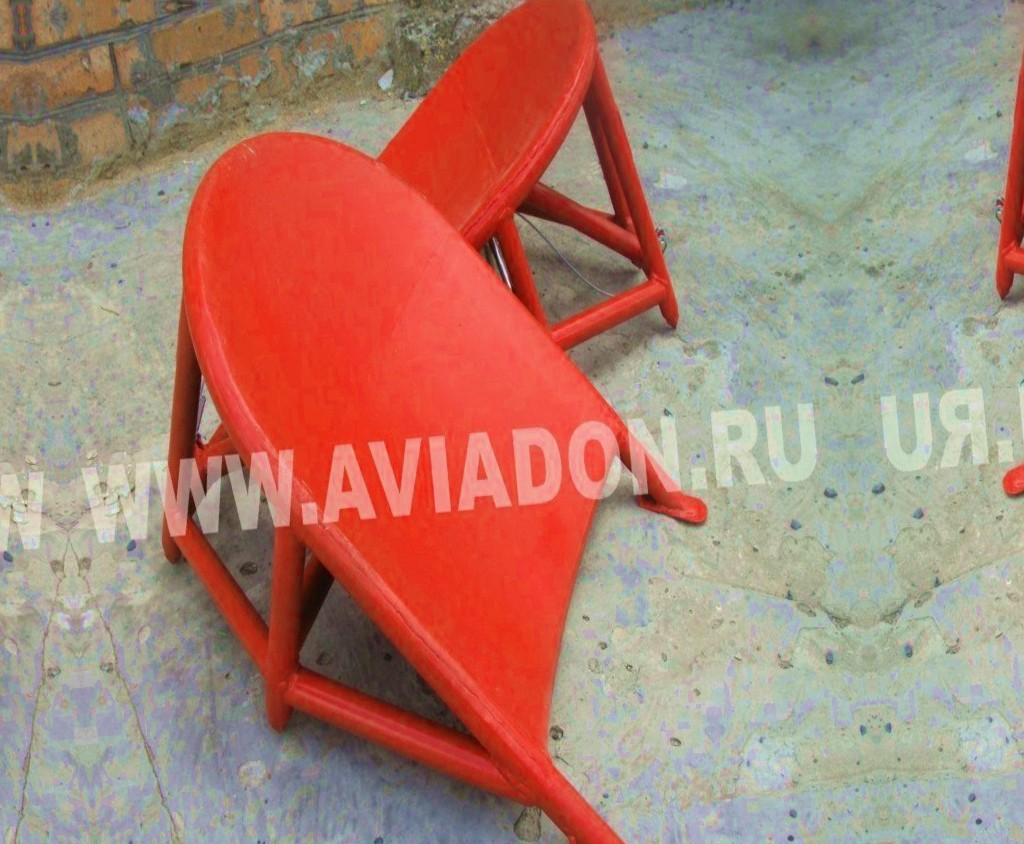chock: (124, 97, 743, 844), (364, 0, 687, 352)
